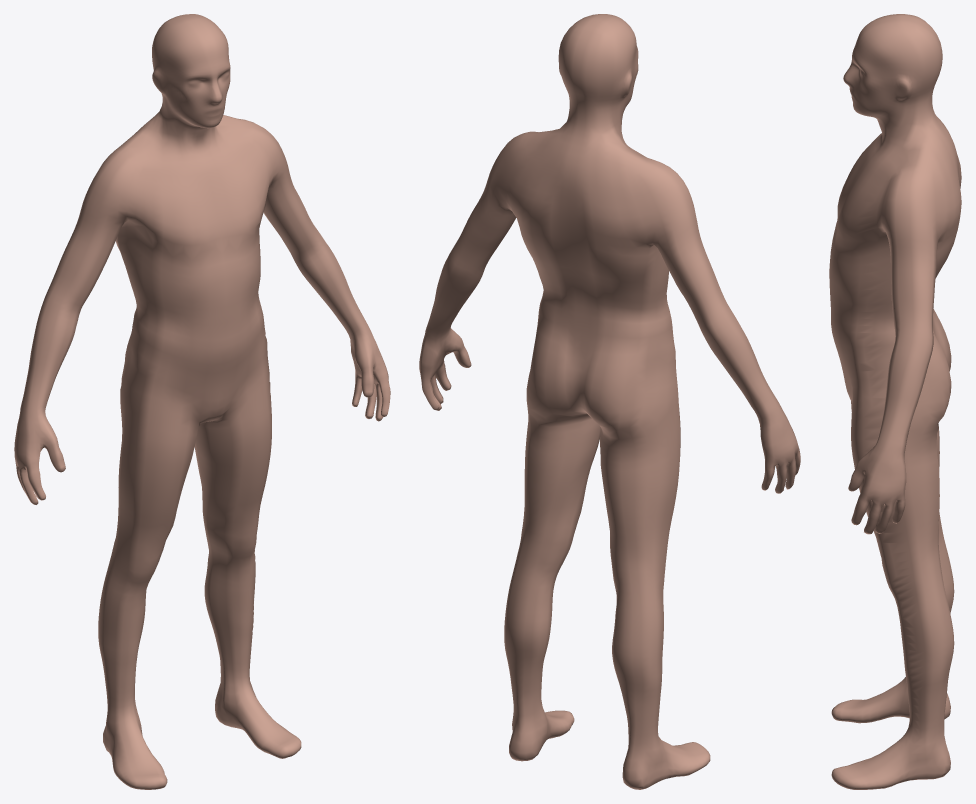
The model's file is SM_Human_Reference.fbx.
3 views of the same model, side by side, from view 1: azimuth 30°, elevation 25°; view 2: azimuth 150°, elevation 25°; view 3: azimuth 270°, elevation 25° (orthographic).
Visible parts, largest first — view 1: SM_Human_Reference; view 2: SM_Human_Reference; view 3: SM_Human_Reference.
Boxes of the visible parts, bbox=[...] form: SM_Human_Reference: bbox=[14, 14, 390, 789]; SM_Human_Reference: bbox=[419, 14, 800, 789]; SM_Human_Reference: bbox=[829, 14, 961, 789].
Bounding box in the file's own units: 95.48 × 183 × 29.88.
